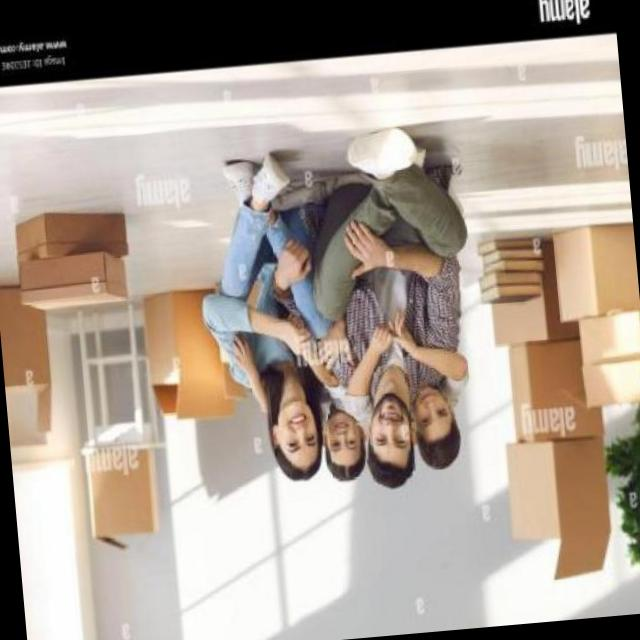box: (508, 431, 622, 588), (126, 280, 241, 432), (476, 234, 582, 352), (80, 418, 164, 552), (0, 255, 63, 431), (503, 342, 602, 443), (8, 238, 132, 316), (553, 217, 640, 324), (5, 198, 130, 266), (578, 312, 640, 414)
